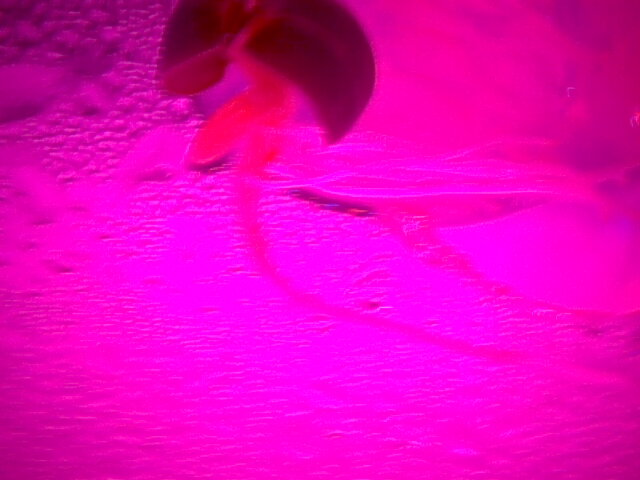seedling: (151, 1, 411, 180)
